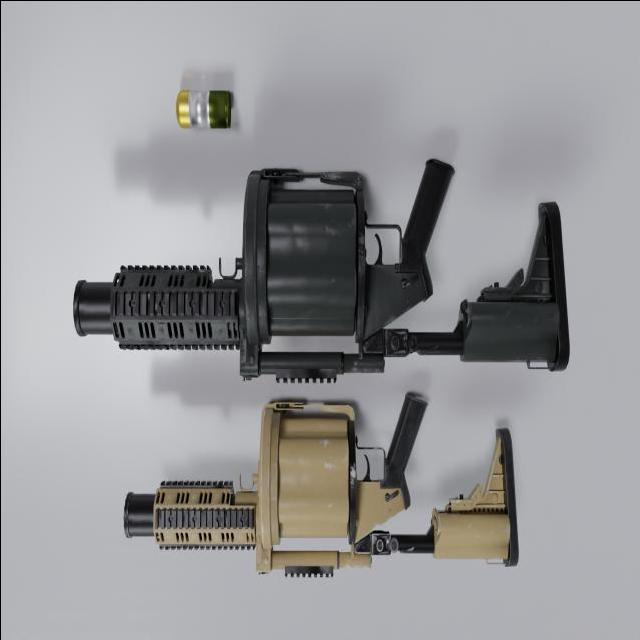rocket launcher: (66, 141, 592, 389), (98, 396, 514, 589)
